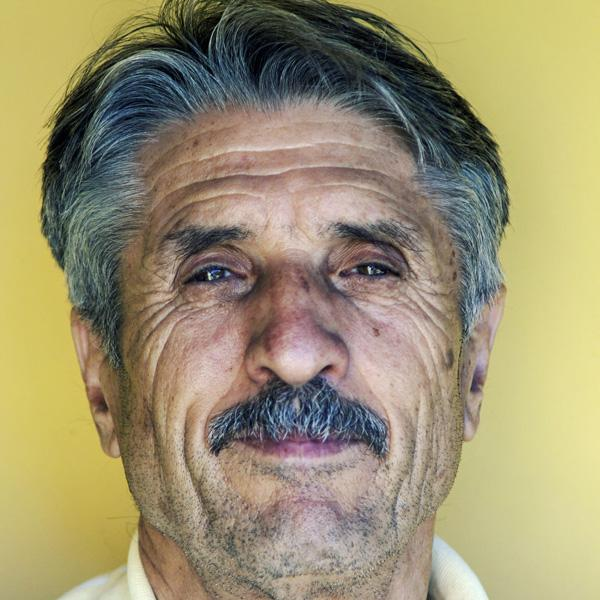Eyes: (165, 246, 256, 308), (328, 234, 405, 304)
